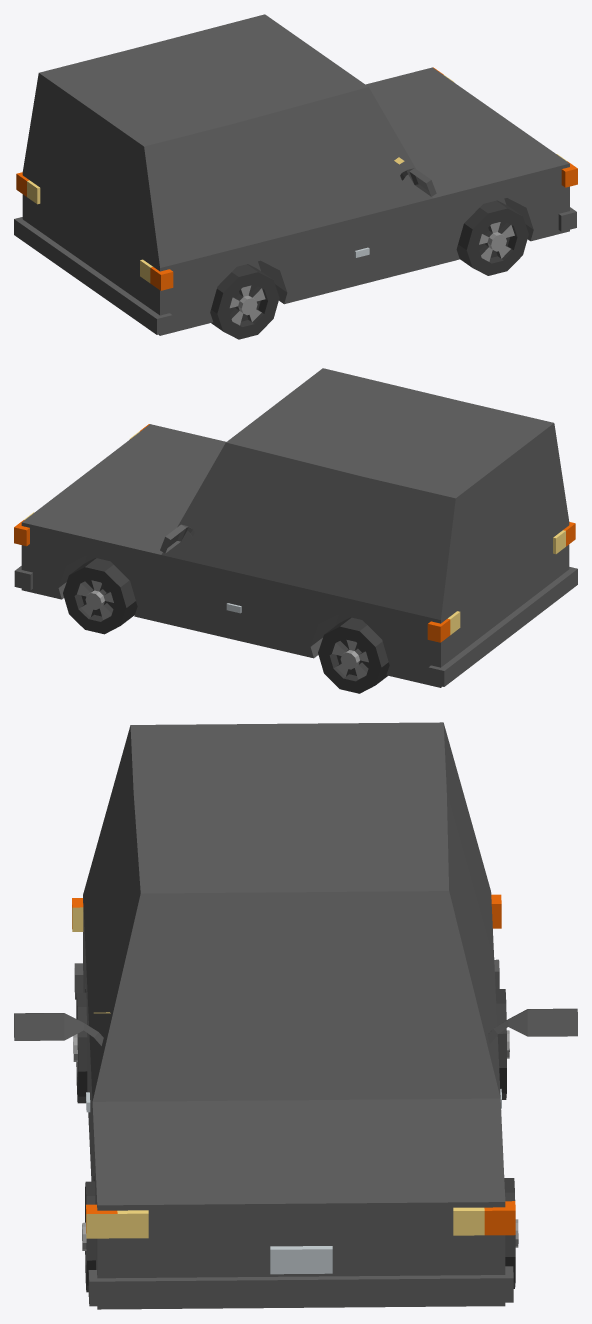
The model's file is Carro.obj.
The picture shows the model from 3 angles, top to bottom: view 1: azimuth 30°, elevation 25°; view 2: azimuth 150°, elevation 25°; view 3: azimuth 270°, elevation 25°; orthographic projection. The views are drawn at different scales.
Parts seen in each view (by area): view 1: pasted__race_5 group76; view 2: pasted__race_5 group76; view 3: pasted__race_5 group76.
Part boxes in pixels (<box>): pasted__race_5 group76: <box>14,14,577,339</box>; pasted__race_5 group76: <box>14,368,577,693</box>; pasted__race_5 group76: <box>14,722,577,1309</box>.
Size of the model in its own units: 3.08 by 1.38 by 2.28.
Materials: 1 (1 with a texture image).
